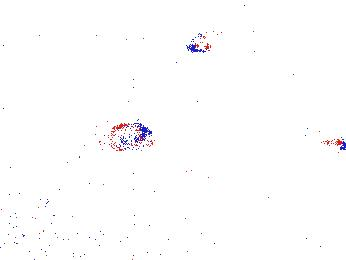X-ray fish: (182, 28, 240, 57)
red belly glassfish: (299, 121, 346, 153)
